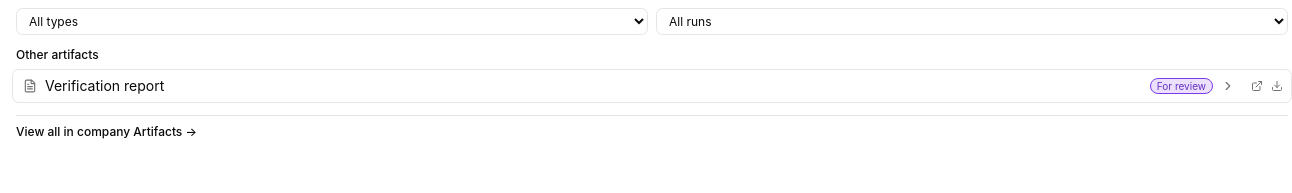
it: markdown work product review row › shows an unsupported state without retry for typed rejections
The image size is (1292, 193).
What coordinates should you click on to do the following:
click the button "Verification report For review"
I would click on:
 (105, 86)
Its box is [13,70,1245,102].
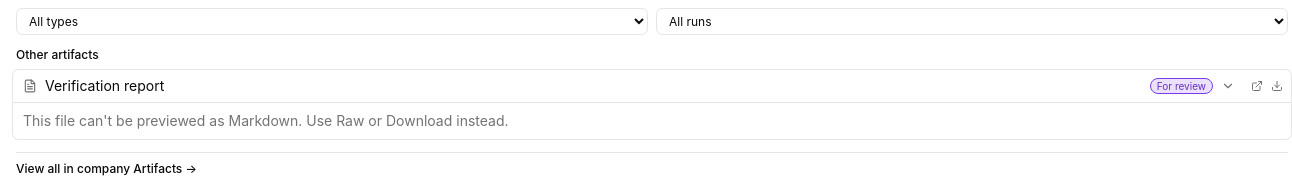
Result: the text "can't be previewed as Markdown" is shown at [23,112,508,129]
